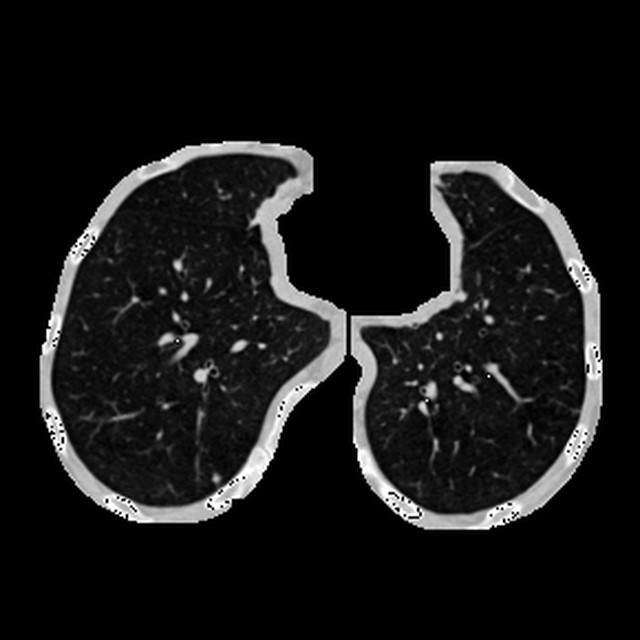PN: (210, 474, 218, 483)
